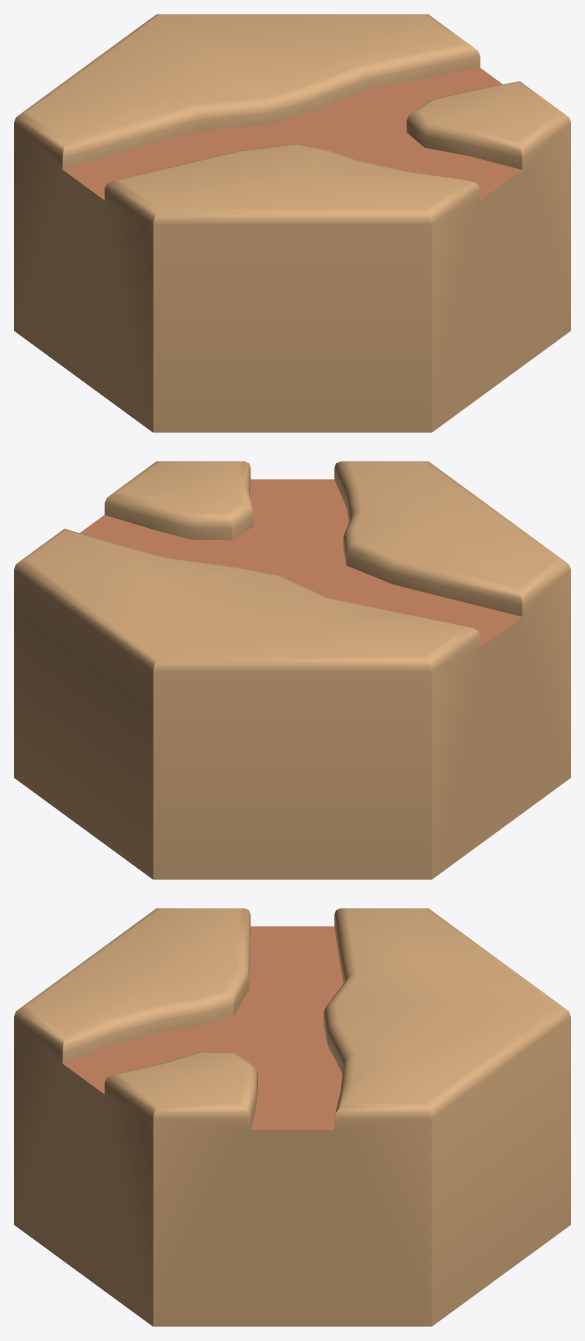
Rendered from kaykit-hex-sand-roade.glb.
3 views of the same model, one above another, from view 1: azimuth 30°, elevation 25°; view 2: azimuth 150°, elevation 25°; view 3: azimuth 270°, elevation 25° (orthographic).
Visible parts, largest first — view 1: hex_sand_roadE; view 2: hex_sand_roadE; view 3: hex_sand_roadE.
Boxes of the visible parts, <box> form: hex_sand_roadE: <box>14,14,570,432</box>; hex_sand_roadE: <box>14,461,570,879</box>; hex_sand_roadE: <box>14,908,570,1326</box>.
Bounding box in the file's own units: 2 × 1 × 2.31.
